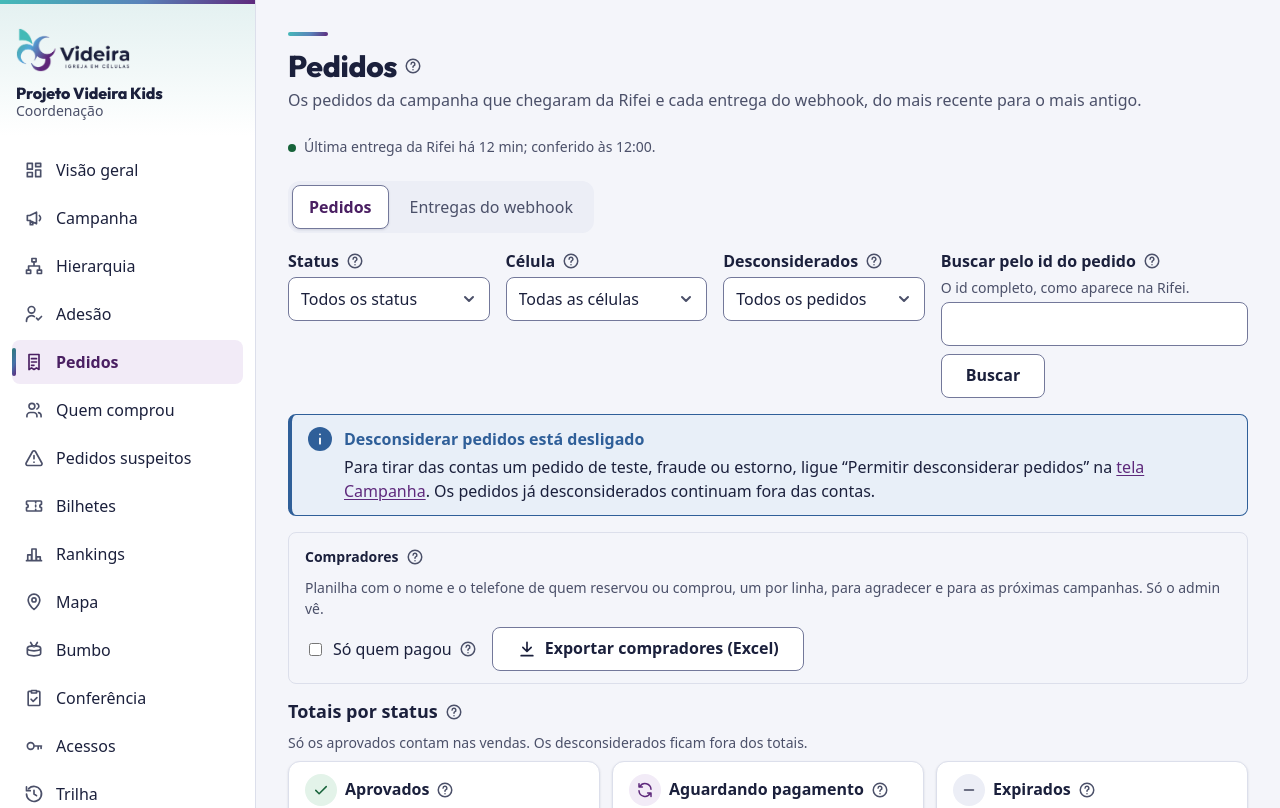
Test: coluna Comprador e planilha de compradores › admin: 'Só quem pagou' + exportar baixa a planilha com so_pagou=true e anuncia o nome do arquivo
This screenshot has width=1280, height=808.
Step 1. Click the checkbox labelled "Só quem pagou" → (316, 649), box [309,642,322,656]
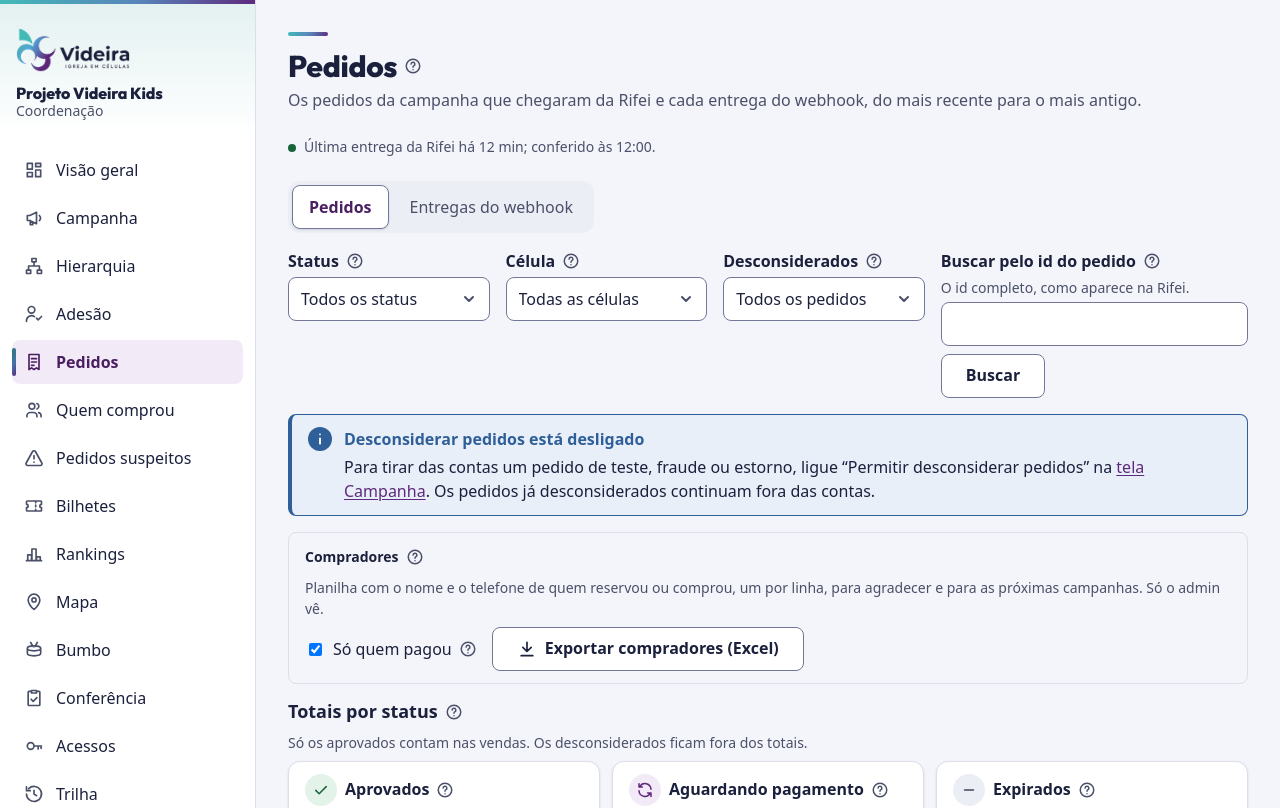
Step 2. Click the button "Exportar compradores (Excel)" → (648, 649), box [492,627,804,671]
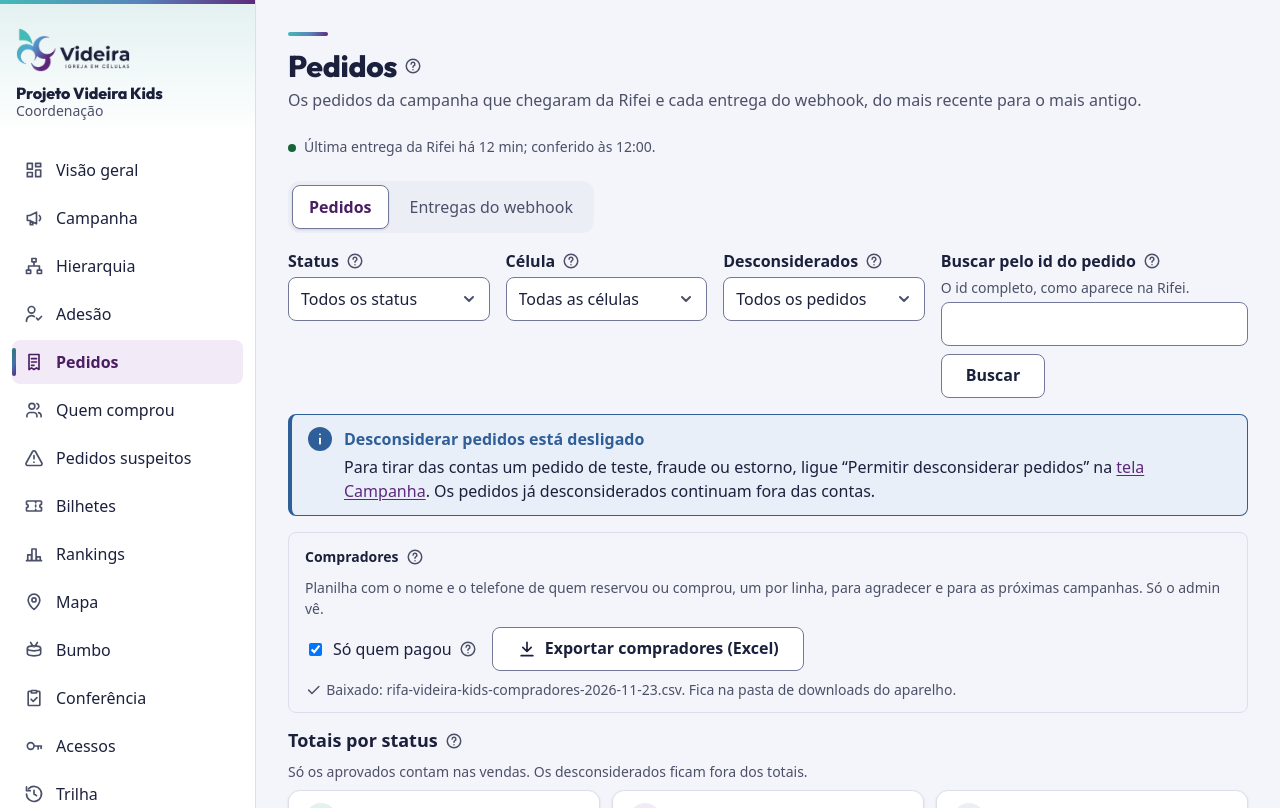
Expected: the text "Baixado: rifa-videira-kids-compradores-2026-11-23.csv" is shown, [305,680,956,699]
